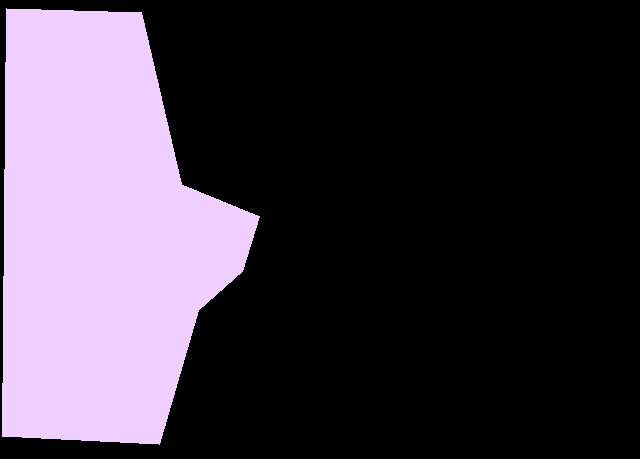Train: (2, 8, 260, 445)
